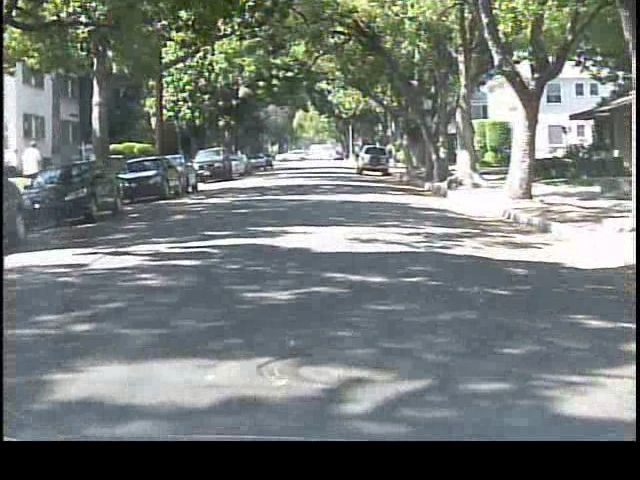person: (22, 138, 50, 205)
